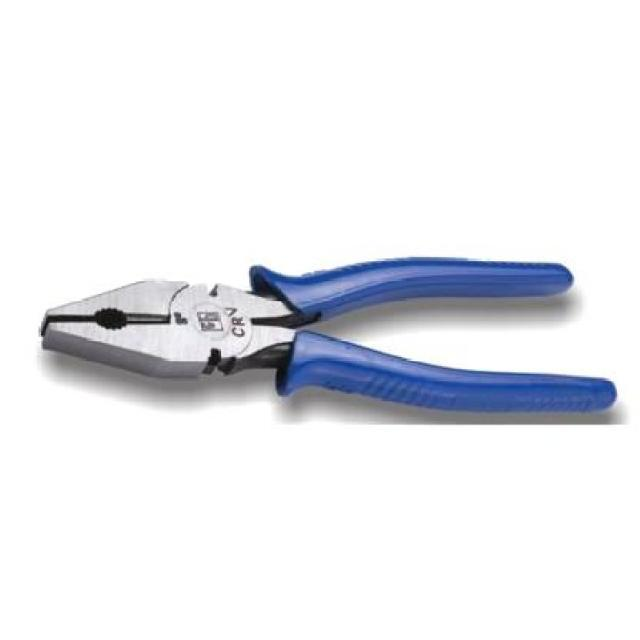pliers: (24, 244, 618, 422)
